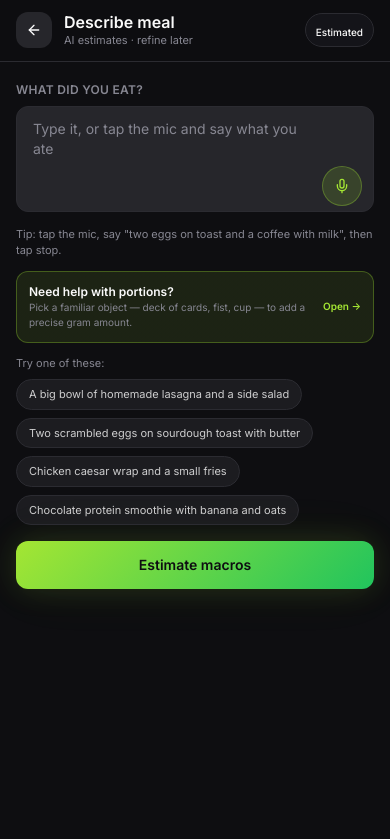
Scenario: Describe voice input › records, transcribes, fills the box and estimates automatically
What coordinates should you click on to do the following:
click the button named "Describe your meal by voice"
I would click on:
 (342, 186)
Its box is [322,166,362,206].
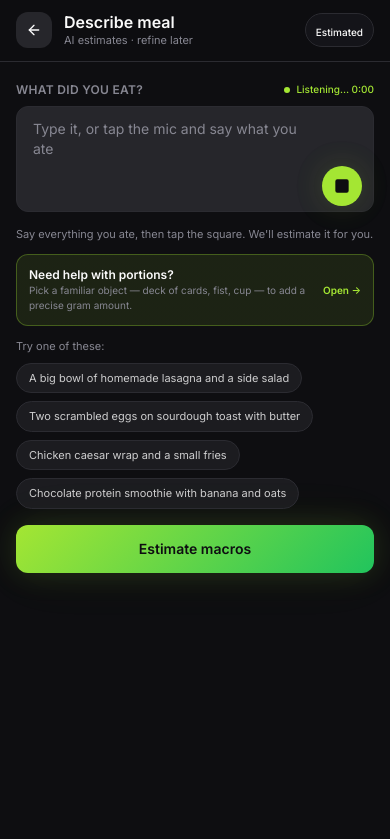
What coordinates should you click on to do the following:
click the button named "Stop recording and estimate"
I would click on:
 (342, 186)
Its box is [322,166,362,206].
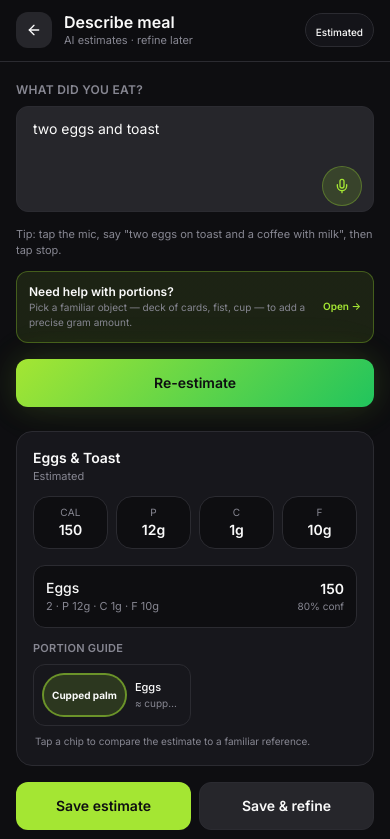
Expected: the text "Eggs & Toast" is shown, [33,448,120,466]
Expected: the text box showing "two eggs and toast" is shown, [16,106,374,212]
